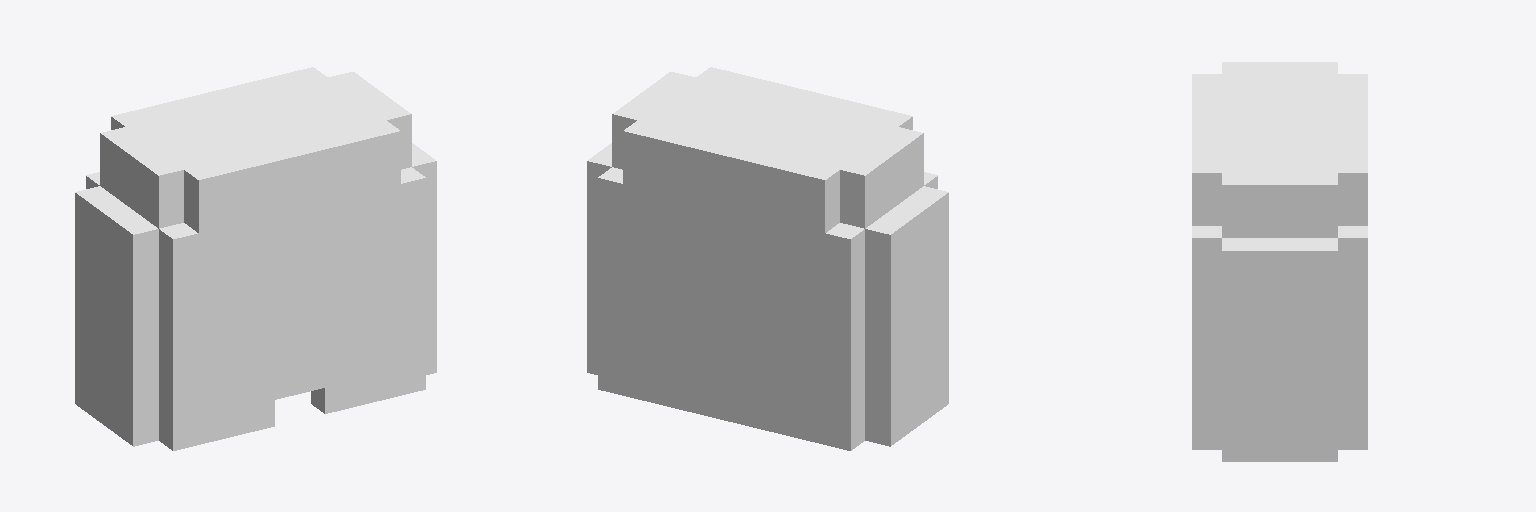
Rendered from male-20.obj.
The picture shows the model from 3 angles: view 1: azimuth 30°, elevation 25°; view 2: azimuth 150°, elevation 25°; view 3: azimuth 270°, elevation 25°; orthographic projection.
Visible parts, largest first — view 1: object 1; view 2: object 1; view 3: object 1.
Part boxes in pixels (x1,y1,x2,y2): object 1: (75, 67, 436, 450); object 1: (587, 67, 948, 450); object 1: (1192, 62, 1367, 461).
Bounding box in the file's own units: 1.2 × 1 × 0.6.